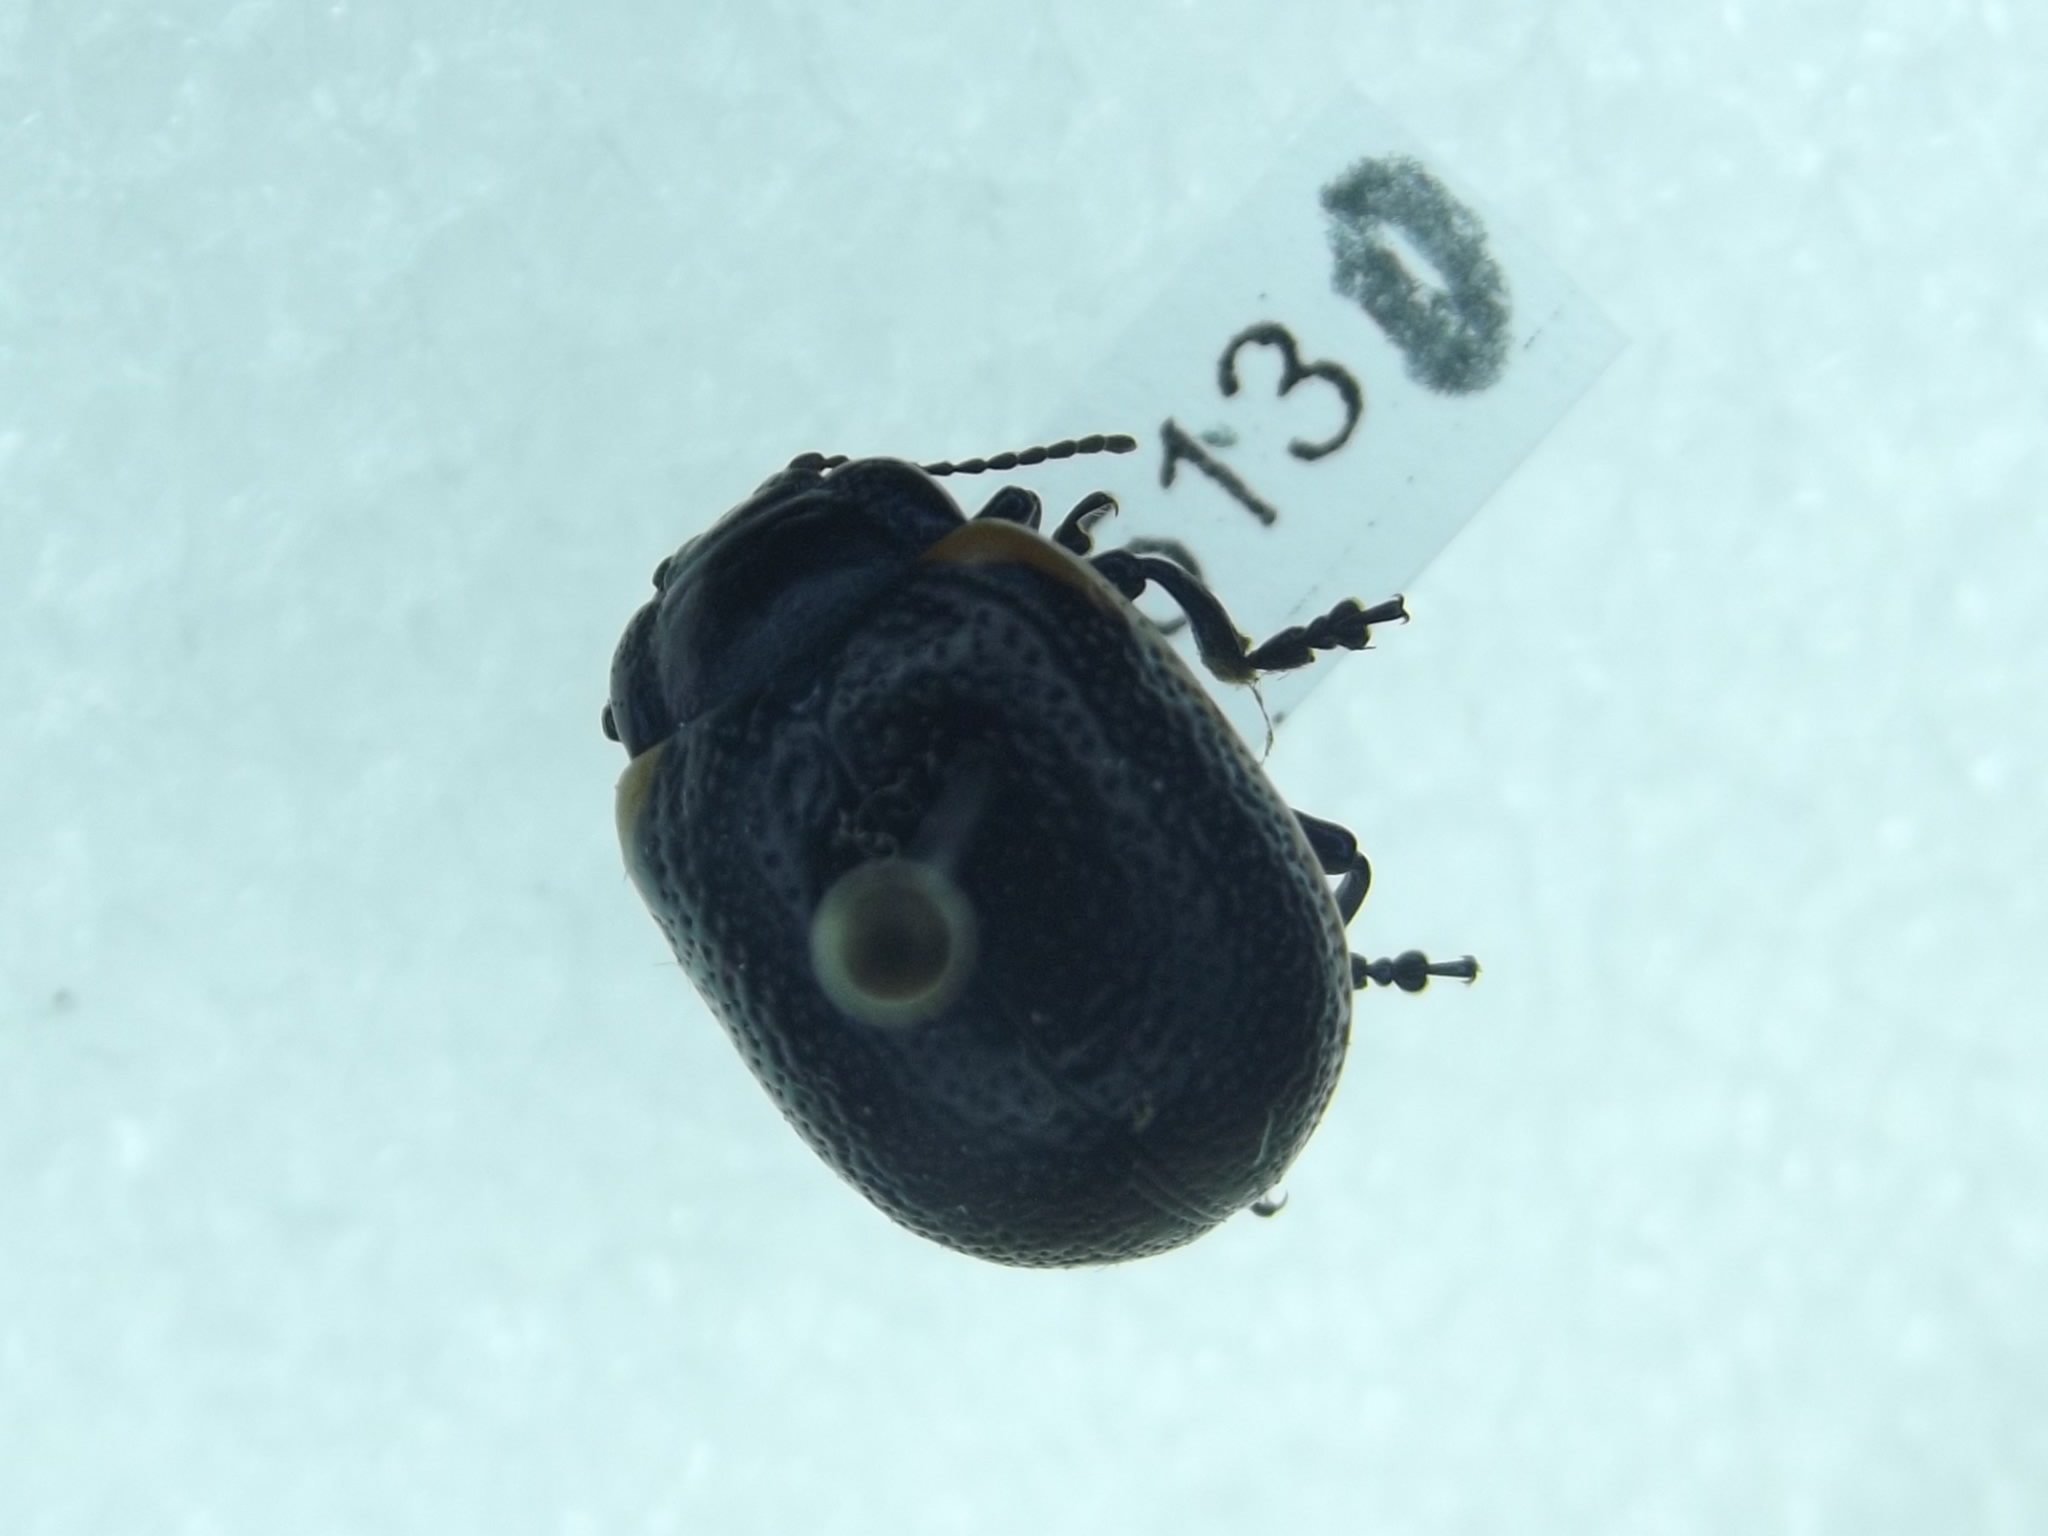Chrysolina_gypsophila: (543, 407, 1501, 1279)
